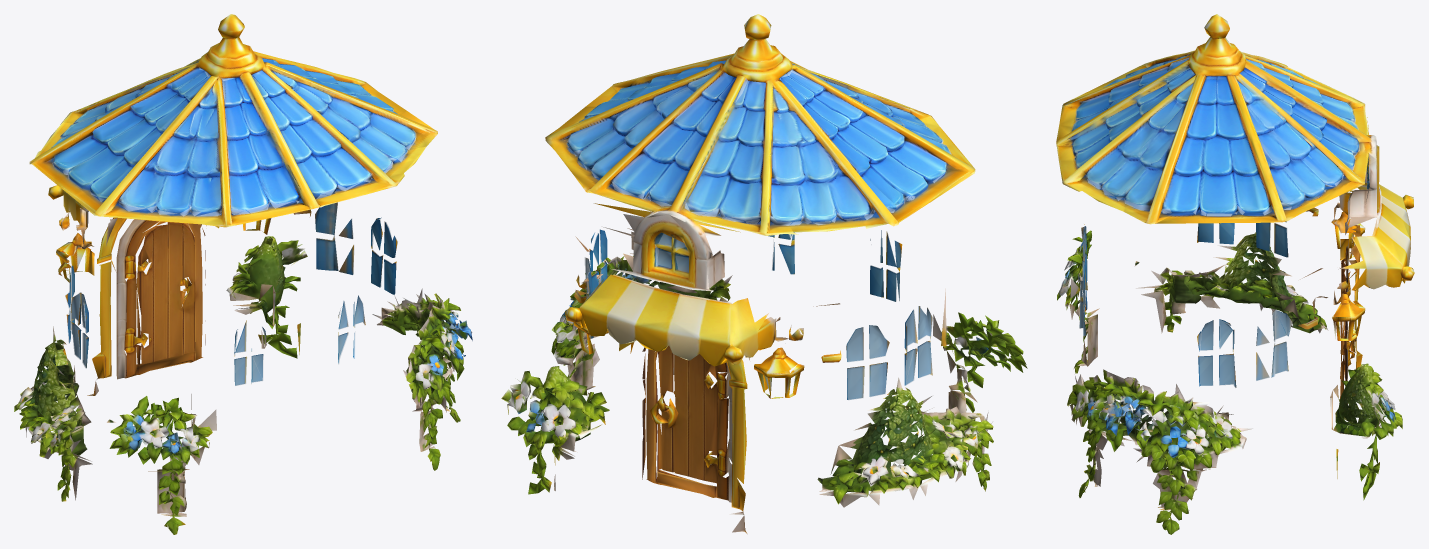
Rendered from HaloDomeHouse_07_keep.glb.
3 views of the same model, side by side, from view 1: azimuth 30°, elevation 25°; view 2: azimuth 150°, elevation 25°; view 3: azimuth 270°, elevation 25° (orthographic). The views are drawn at different scales.
Parts seen in each view (by area): view 1: HaloDomeHouse_07_Roof_t10, HaloDomeHouse_07_Roof_t11, HaloDomeHouse_07_Door, HaloDomeHouse_07_Roof_t01, HaloDomeHouse_07_Plants_t11, HaloDomeHouse_07_Roof_t00, HaloDomeHouse_07_WinPane, HaloDomeHouse_07_Plants_t10, HaloDomeHouse_07_Plants_t01, HaloDomeHouse_07_Plants_t00, HaloDomeHouse_07_Glass, HaloDomeHouse_07_DoorHw (+2 smaller); view 2: HaloDomeHouse_07_Roof_t01, HaloDomeHouse_07_Roof_t00, HaloDomeHouse_07_Door, HaloDomeHouse_07_Roof_t11, HaloDomeHouse_07_Awning, HaloDomeHouse_07_Roof_t10, HaloDomeHouse_07_WinPane, HaloDomeHouse_07_Plants_t11, HaloDomeHouse_07_Plants_t01, HaloDomeHouse_07_Plants_t10, HaloDomeHouse_07_Plants_t00, HaloDomeHouse_07_Glass (+6 smaller); view 3: HaloDomeHouse_07_Roof_t10, HaloDomeHouse_07_Roof_t00, HaloDomeHouse_07_Plants_t11, HaloDomeHouse_07_Roof_t01, HaloDomeHouse_07_Roof_t11, HaloDomeHouse_07_Plants_t10, HaloDomeHouse_07_Plants_t01, HaloDomeHouse_07_WinPane, HaloDomeHouse_07_Plants_t00, HaloDomeHouse_07_Awning, HaloDomeHouse_07_Glass, HaloDomeHouse_07_Dormer_t00 (+3 smaller).
Part boxes in pixels (x1,y1,x2,y2): HaloDomeHouse_07_Roof_t10: (51,14,433,217); HaloDomeHouse_07_Roof_t11: (29,31,426,227); HaloDomeHouse_07_Door: (87,218,205,395); HaloDomeHouse_07_Roof_t01: (53,60,434,211); HaloDomeHouse_07_Plants_t11: (20,236,470,517); HaloDomeHouse_07_Roof_t00: (30,14,437,227); HaloDomeHouse_07_WinPane: (52,67,463,385); HaloDomeHouse_07_Plants_t10: (14,242,467,499); HaloDomeHouse_07_Plants_t01: (23,245,472,534); HaloDomeHouse_07_Plants_t00: (21,248,472,528); HaloDomeHouse_07_Glass: (51,63,462,385); HaloDomeHouse_07_DoorHw: (92,217,190,378); HaloDomeHouse_07_Roof_t01: (567,54,970,224); HaloDomeHouse_07_Roof_t00: (555,14,974,224); HaloDomeHouse_07_Door: (642,345,749,533); HaloDomeHouse_07_Roof_t11: (545,39,975,231); HaloDomeHouse_07_Awning: (564,266,774,390); HaloDomeHouse_07_Roof_t10: (579,14,950,235); HaloDomeHouse_07_WinPane: (574,68,944,399); HaloDomeHouse_07_Plants_t11: (517,256,1017,496); HaloDomeHouse_07_Plants_t01: (507,256,1009,495); HaloDomeHouse_07_Plants_t10: (501,264,1027,499); HaloDomeHouse_07_Plants_t00: (510,256,1018,507); HaloDomeHouse_07_Glass: (566,64,951,400); HaloDomeHouse_07_Roof_t10: (1056,14,1376,222); HaloDomeHouse_07_Roof_t00: (1056,14,1365,224); HaloDomeHouse_07_Plants_t11: (1059,237,1395,522); HaloDomeHouse_07_Roof_t01: (1058,50,1376,223); HaloDomeHouse_07_Roof_t11: (1066,37,1368,222); HaloDomeHouse_07_Plants_t10: (1060,230,1398,534); HaloDomeHouse_07_Plants_t01: (1065,231,1402,522); HaloDomeHouse_07_WinPane: (1072,77,1369,422); HaloDomeHouse_07_Plants_t00: (1057,236,1388,533); HaloDomeHouse_07_Awning: (1338,183,1414,335); HaloDomeHouse_07_Glass: (1071,59,1359,420); HaloDomeHouse_07_Dormer_t00: (1349,149,1379,216).
Size of the model in its own units: 18.68 by 19.35 by 14.81.
9 materials, 8 textured.
